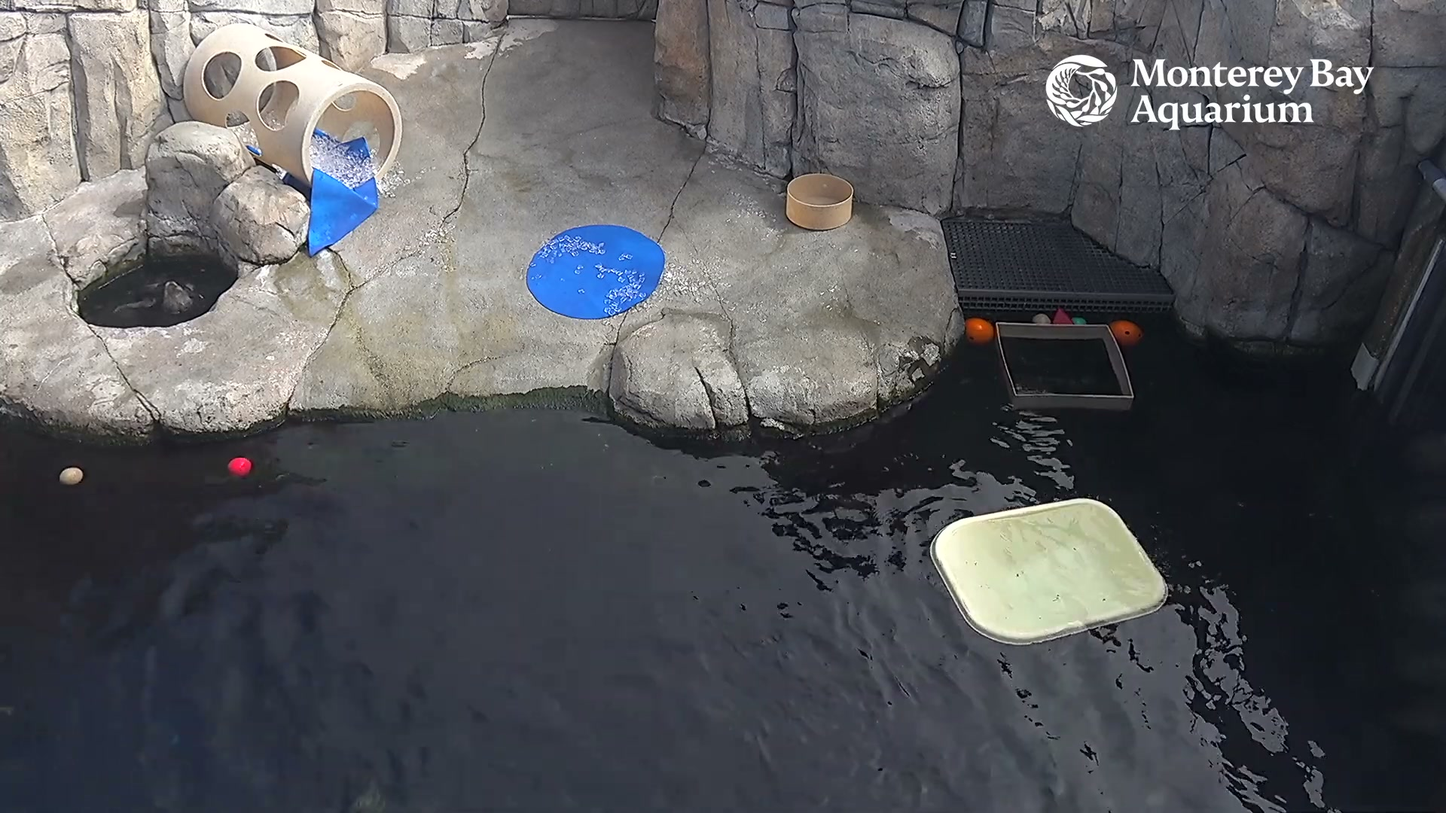Southern Sea Otter: (125, 276, 215, 323)
